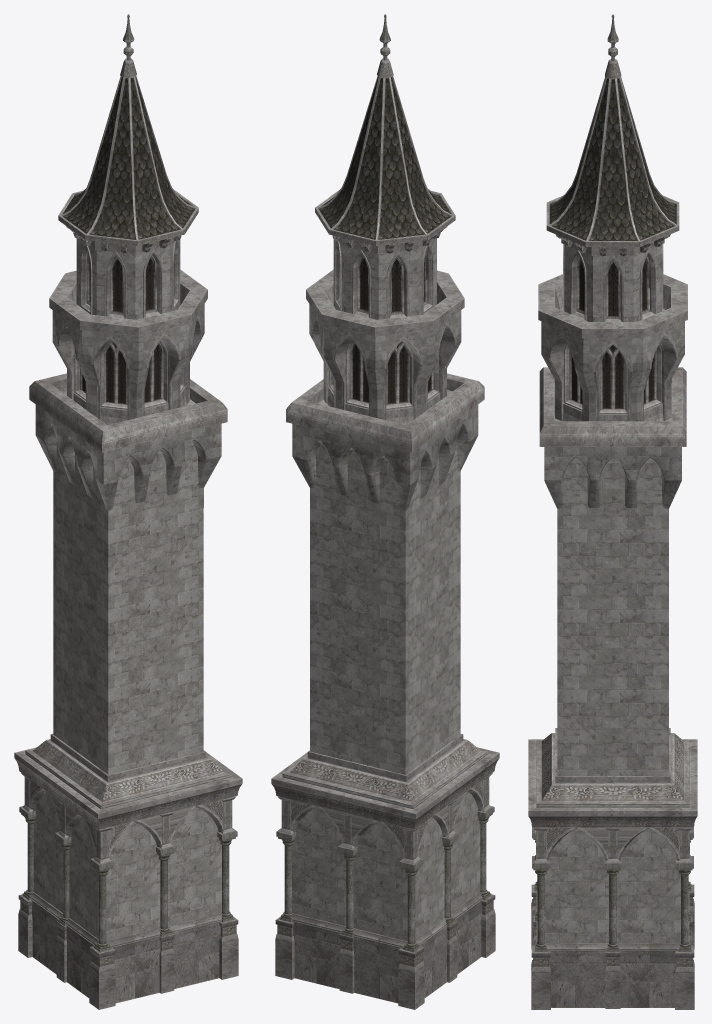
Rendered from eso_ss16_buildingtower1-transformed.glb.
3 views of the same model, side by side, from view 1: azimuth 30°, elevation 25°; view 2: azimuth 150°, elevation 25°; view 3: azimuth 270°, elevation 25° (orthographic).
Parts seen in each view (by area): view 1: default; view 2: default; view 3: default.
Boxes of the visible parts, box(x1,y1,x2,y2) form: default: box(14, 14, 242, 1009); default: box(271, 14, 499, 1009); default: box(528, 14, 697, 1009).
Size of the model in its own units: 15.39 by 96.57 by 15.39.
5 materials, 5 textured.
